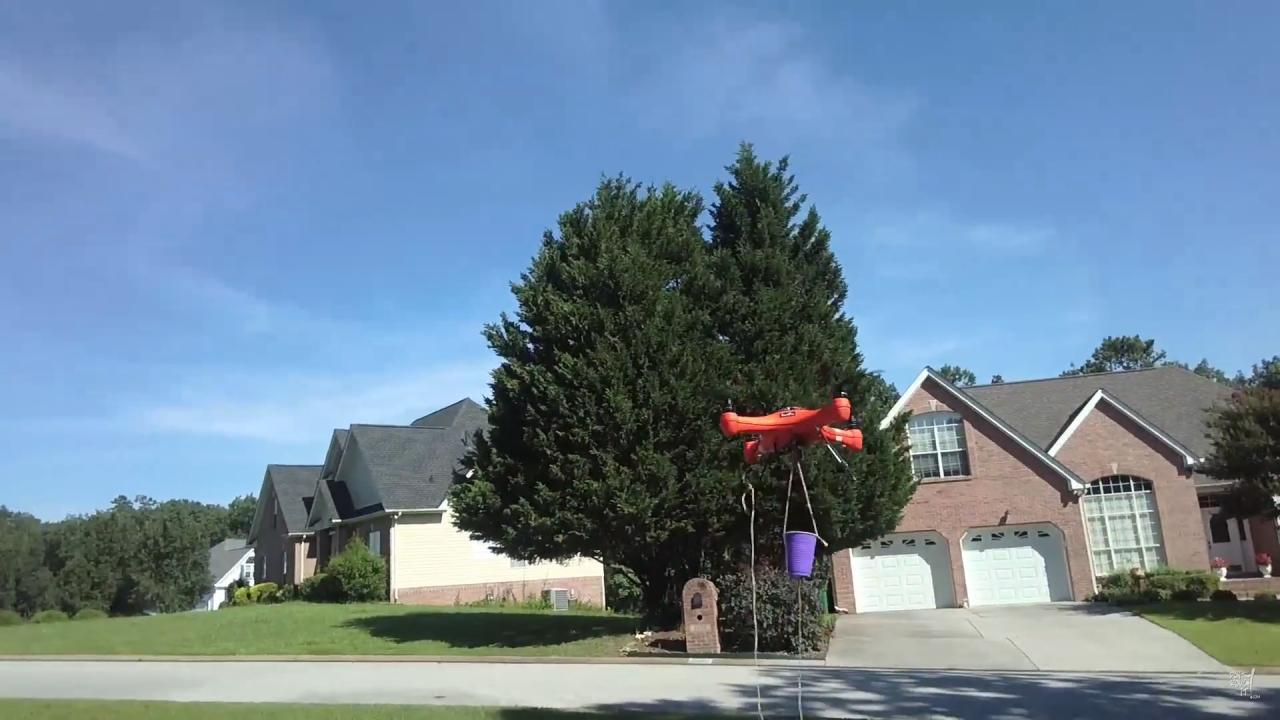Drone: (687, 362, 895, 487)
